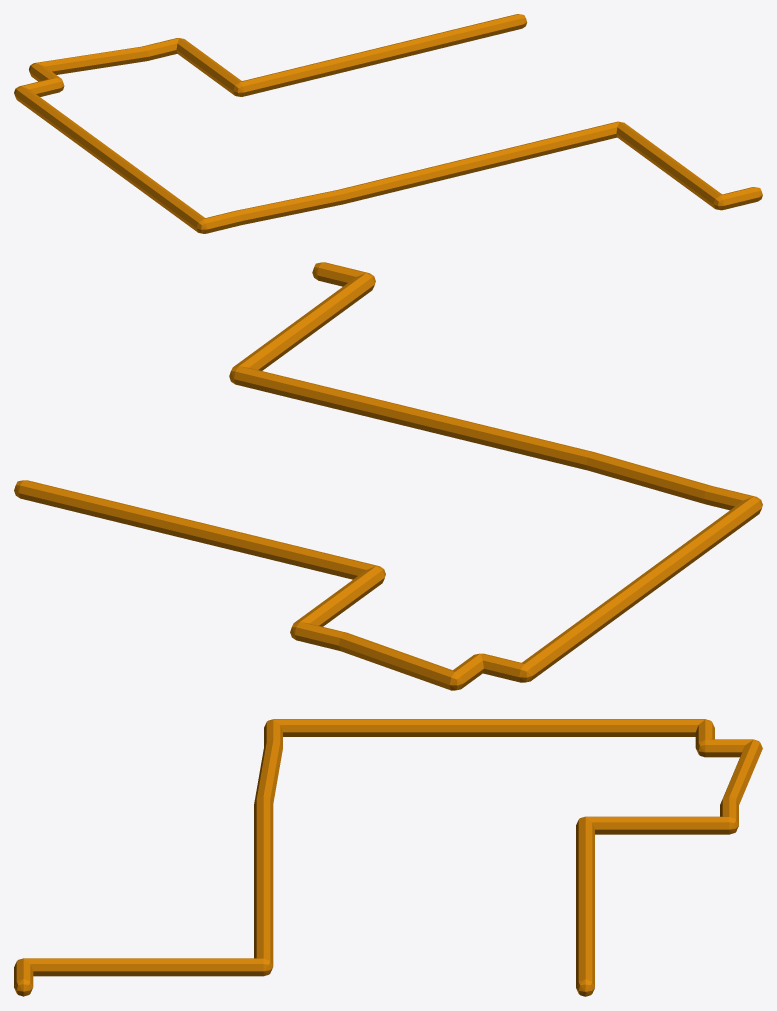
The picture shows the model from 3 angles, top to bottom: view 1: azimuth 30°, elevation 25°; view 2: azimuth 150°, elevation 25°; view 3: azimuth 270°, elevation 25°; orthographic projection. The views are drawn at different scales.
Bounding box in the file's own units: 660 × 20 × 780.
